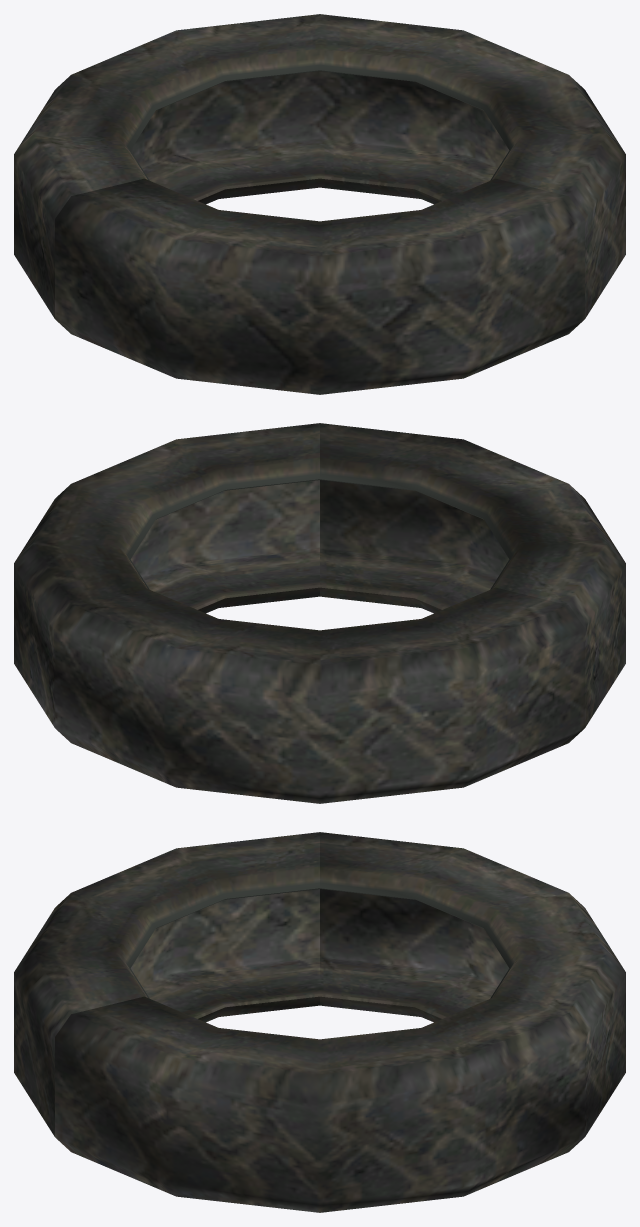
The model's file is Prop_BcLt01.glb.
3 renders of one model, top to bottom at view 1: azimuth 30°, elevation 25°; view 2: azimuth 150°, elevation 25°; view 3: azimuth 270°, elevation 25°, orthographic.
Parts seen in each view (by area): view 1: xiutz_bc_lt_01; view 2: xiutz_bc_lt_01; view 3: xiutz_bc_lt_01.
Part boxes in pixels (x1,y1,x2,y2): xiutz_bc_lt_01: (14, 14, 625, 394); xiutz_bc_lt_01: (14, 423, 625, 803); xiutz_bc_lt_01: (14, 832, 625, 1212).
Bounding box in the file's own units: 1.19 × 0.2958 × 1.19.
1 material, 1 textured.
